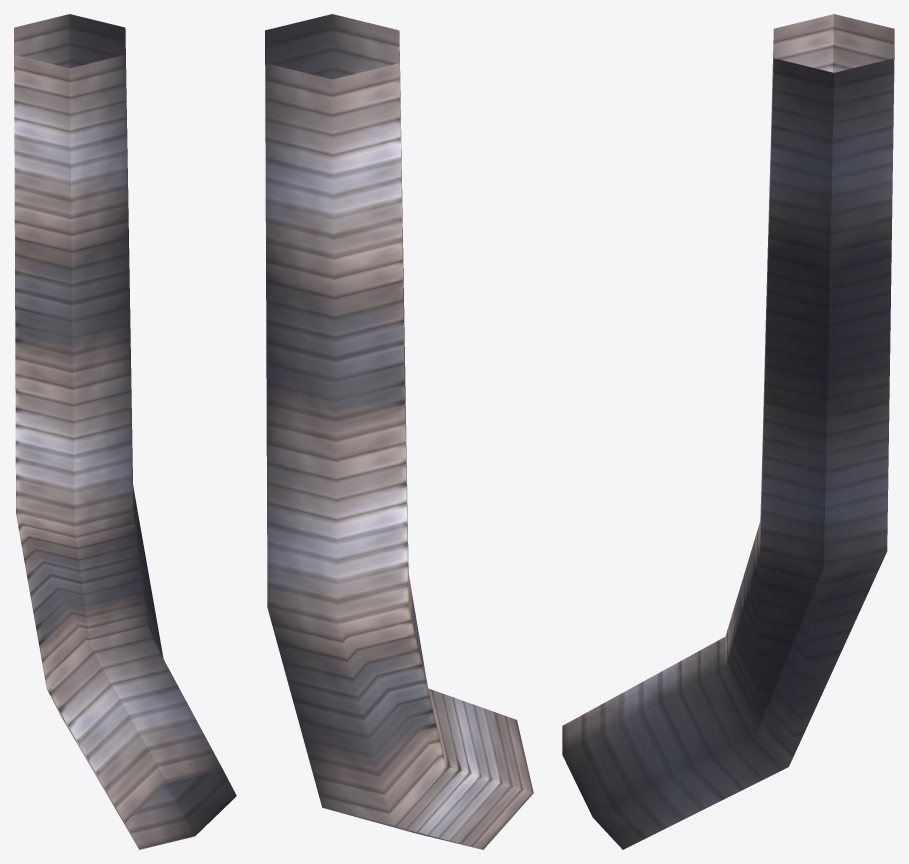
The picture shows the model from 3 angles, left to right: view 1: azimuth 30°, elevation 25°; view 2: azimuth 150°, elevation 25°; view 3: azimuth 270°, elevation 25°; orthographic projection. The views are drawn at different scales.
Visible parts, largest first — view 1: Tube01; view 2: Tube01; view 3: Tube01.
Part boxes in pixels (left/top/right/bottom): Tube01: left=14, top=14, right=236, bottom=849; Tube01: left=265, top=14, right=533, bottom=849; Tube01: left=562, top=14, right=894, bottom=849.
Bounding box in the file's own units: 425 × 2534 × 963.
Materials: 1 (1 with a texture image).
